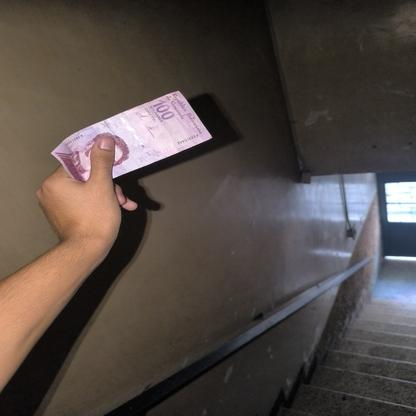one_hundred-front-vef: (50, 89, 212, 184)
